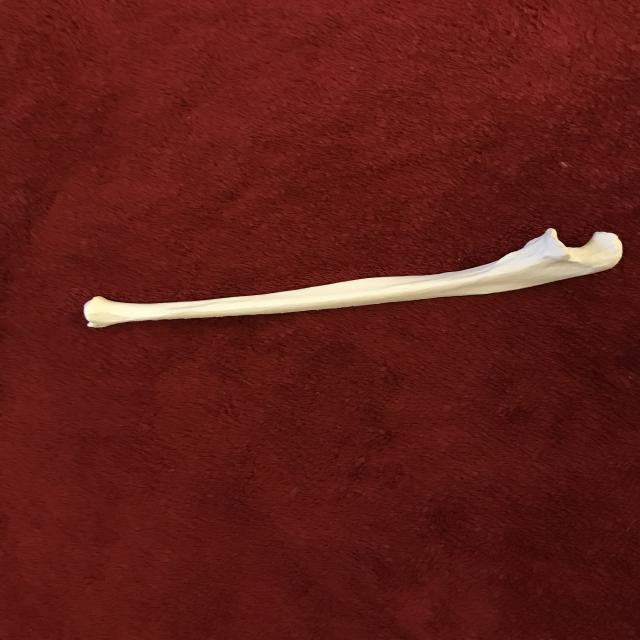bone: (78, 220, 624, 326)
